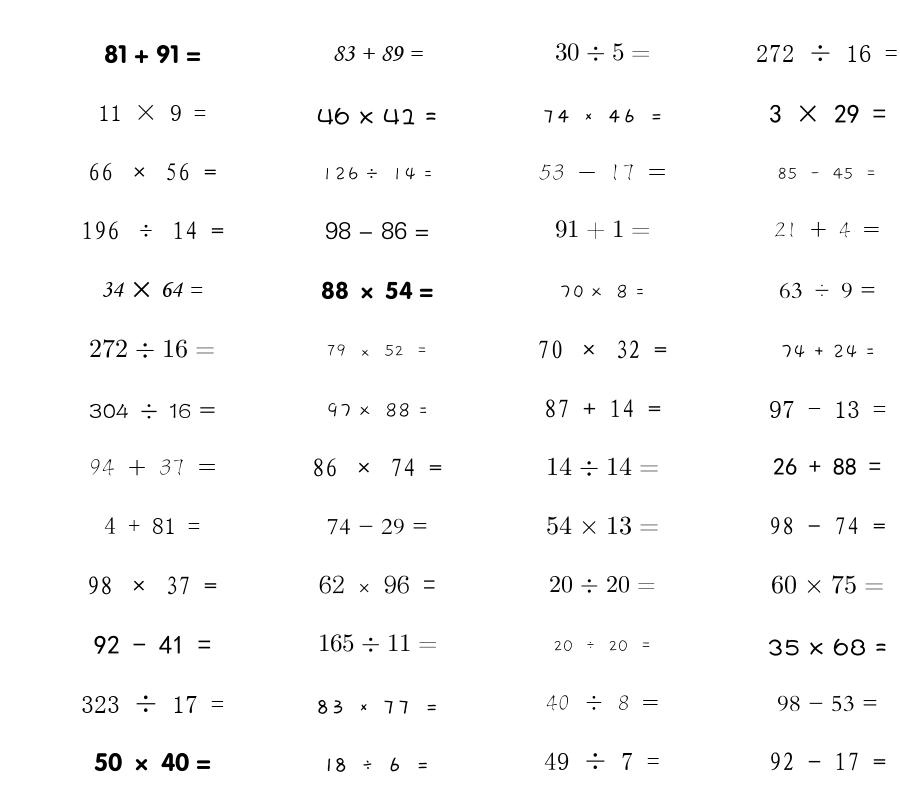MQ: (81, 221, 224, 240), (81, 695, 224, 713), (756, 44, 898, 62), (537, 340, 667, 359), (312, 458, 442, 477), (87, 576, 217, 595), (89, 339, 215, 358), (94, 752, 211, 772), (88, 163, 217, 181), (89, 458, 216, 476), (769, 104, 886, 123), (544, 399, 661, 418), (319, 575, 436, 594), (94, 635, 211, 654), (769, 752, 886, 771), (317, 107, 437, 125), (767, 638, 887, 656), (539, 164, 666, 181), (546, 457, 659, 476), (546, 516, 659, 535), (771, 575, 884, 594), (318, 634, 437, 652), (321, 281, 433, 300), (769, 517, 886, 535), (544, 752, 660, 770), (89, 403, 216, 419), (325, 221, 430, 240), (769, 401, 886, 418), (104, 44, 201, 64), (549, 575, 656, 593), (555, 220, 650, 240), (315, 699, 439, 714), (98, 104, 206, 121), (773, 458, 881, 475), (546, 695, 659, 711), (101, 281, 203, 298), (327, 518, 428, 535), (777, 695, 878, 712), (555, 43, 650, 61), (774, 222, 880, 238), (542, 109, 663, 123), (779, 282, 876, 299), (326, 402, 428, 418), (104, 517, 200, 534), (325, 757, 430, 772), (321, 167, 433, 181), (780, 344, 875, 359), (332, 46, 423, 61), (326, 344, 428, 357), (777, 167, 877, 180), (559, 284, 645, 299), (553, 640, 652, 652)
